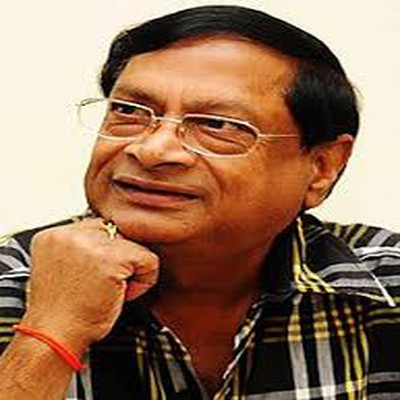eywear: (80, 73, 274, 177)
